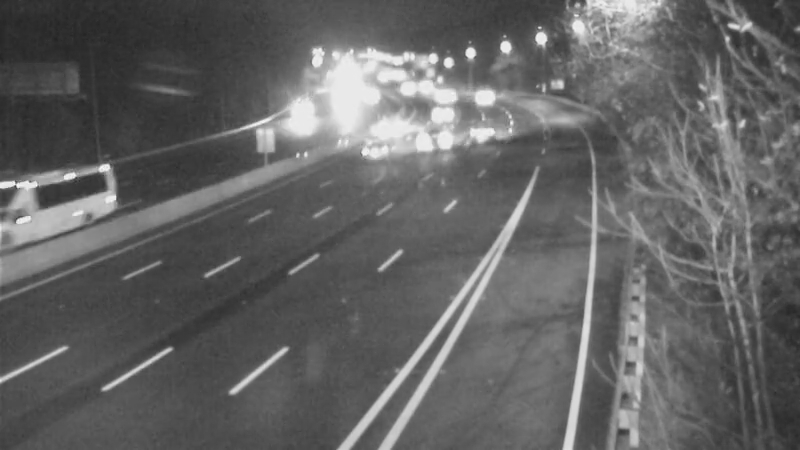vehicle: (1, 183, 78, 263), (401, 62, 451, 112), (382, 63, 432, 113), (416, 68, 466, 118), (454, 76, 504, 126), (423, 74, 473, 124), (416, 92, 466, 142), (363, 102, 413, 152), (456, 106, 506, 156), (406, 115, 456, 165), (278, 83, 328, 133)
